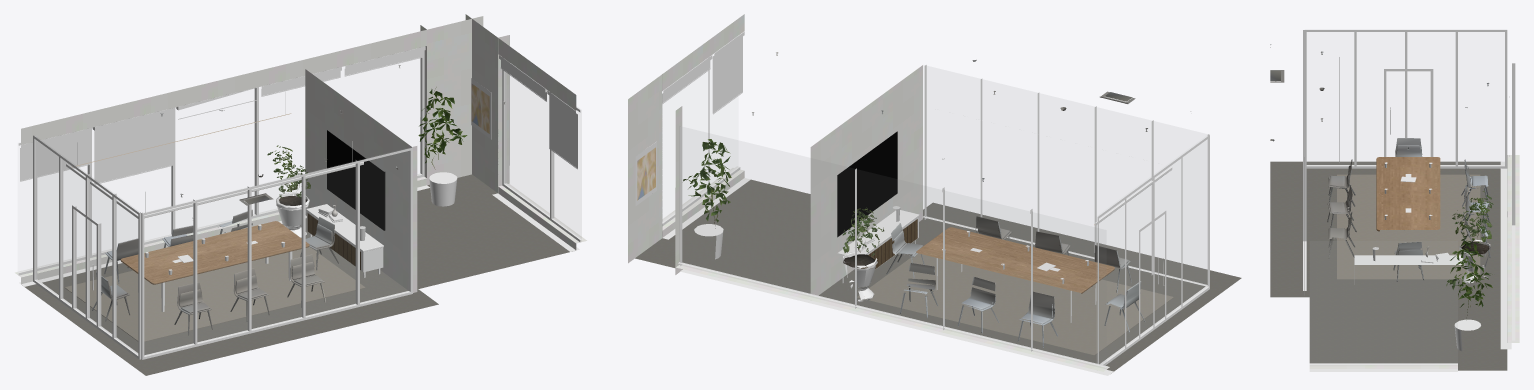
File: z-open_n-lite.light.e1705219.glb
3 renders of one model, left to right at view 1: azimuth 30°, elevation 25°; view 2: azimuth 150°, elevation 25°; view 3: azimuth 270°, elevation 25°, orthographic. The views are drawn at different scales.
Parts seen in each view (by area): view 1: open_n_plaster, open_n_carpet, open_n_satin, open_n_glass, open_n_fx, open_n_oak, open_n_emit, open_n_veg_atlas, open_n_metal_lit, open_n_art, open_n_proxy_cab; view 2: open_n_carpet, open_n_plaster, open_n_glass, open_n_satin, open_n_fx, open_n_oak, open_n_emit, open_n_veg_atlas, open_n_metal_lit, open_n_art, open_n_proxy_cab; view 3: open_n_carpet, open_n_satin, open_n_oak, open_n_fx, open_n_plaster, open_n_veg_atlas, open_n_metal_lit.
Boxes of the visible parts, x1,y1,x2,y2 form: open_n_plaster: (15, 14, 586, 292); open_n_carpet: (22, 174, 575, 375); open_n_satin: (17, 46, 582, 359); open_n_glass: (37, 168, 304, 267); open_n_fx: (92, 65, 505, 335); open_n_oak: (120, 221, 309, 284); open_n_emit: (71, 113, 385, 230); open_n_veg_atlas: (267, 87, 467, 205); open_n_metal_lit: (24, 78, 570, 311); open_n_art: (471, 83, 489, 133); open_n_proxy_cab: (307, 213, 360, 269); open_n_carpet: (635, 179, 1241, 373); open_n_plaster: (628, 14, 1109, 371); open_n_glass: (682, 127, 1207, 364); open_n_satin: (662, 31, 1209, 375); open_n_fx: (752, 52, 1190, 347); open_n_oak: (916, 227, 1114, 293); open_n_emit: (837, 131, 1095, 237); open_n_veg_atlas: (683, 139, 884, 267); open_n_metal_lit: (635, 141, 1164, 371); open_n_art: (637, 147, 655, 200); open_n_proxy_cab: (861, 219, 917, 269); open_n_carpet: (1270, 161, 1507, 370); open_n_satin: (1303, 30, 1515, 371); open_n_oak: (1376, 157, 1440, 231); open_n_fx: (1270, 44, 1490, 281); open_n_plaster: (1304, 155, 1519, 368); open_n_veg_atlas: (1446, 191, 1493, 315); open_n_metal_lit: (1390, 107, 1501, 348).
Bounding box in the file's own units: 10.25 × 3.31 × 5.05.
13 materials, 7 textured.
